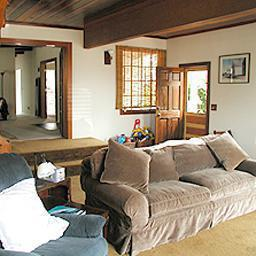Puerta: (157, 65, 182, 138)
